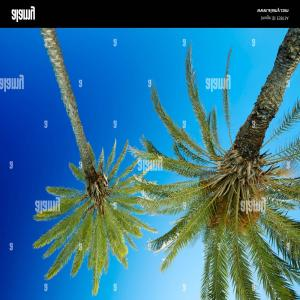palm tree: (128, 28, 300, 299), (31, 28, 158, 296)
